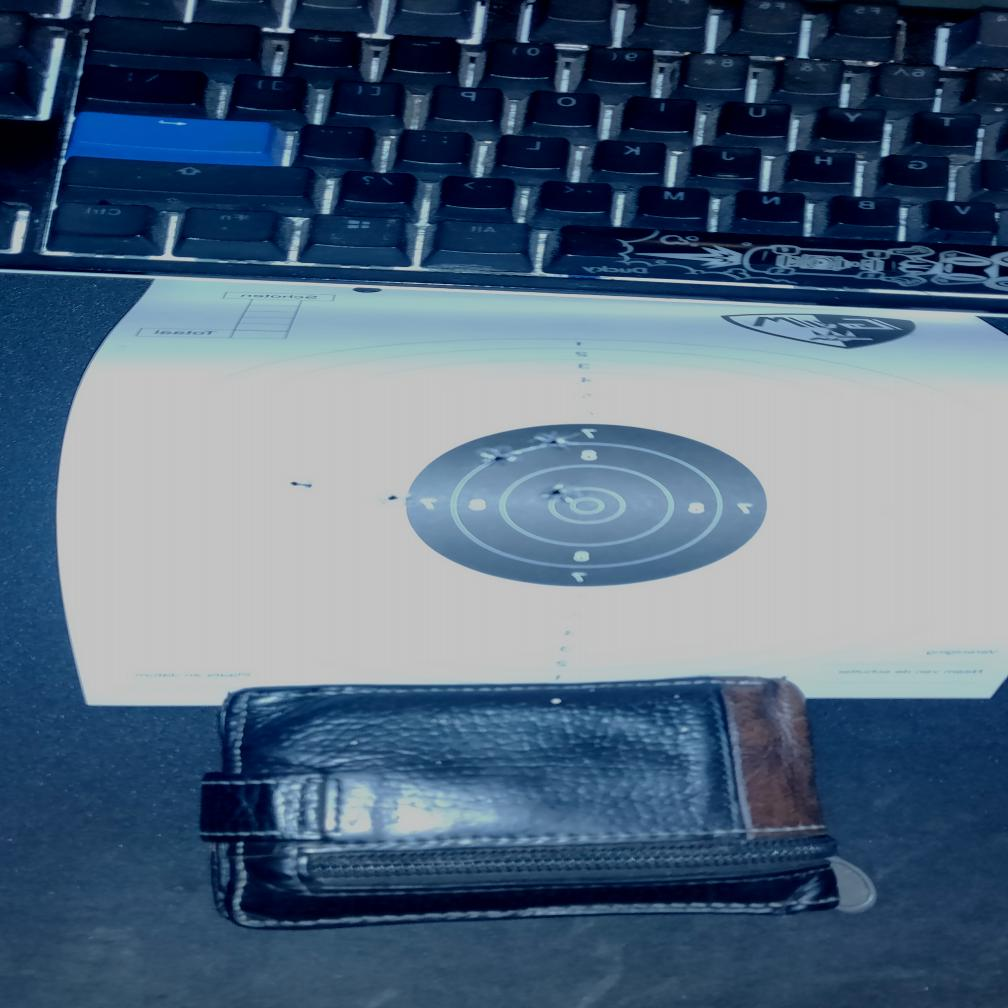10: (538, 481, 583, 503)
3: (276, 470, 324, 493)
6: (366, 485, 413, 506)
8: (528, 430, 578, 452), (474, 444, 520, 467)
Target: (169, 336, 1007, 671)
black_contour: (404, 424, 770, 588)
